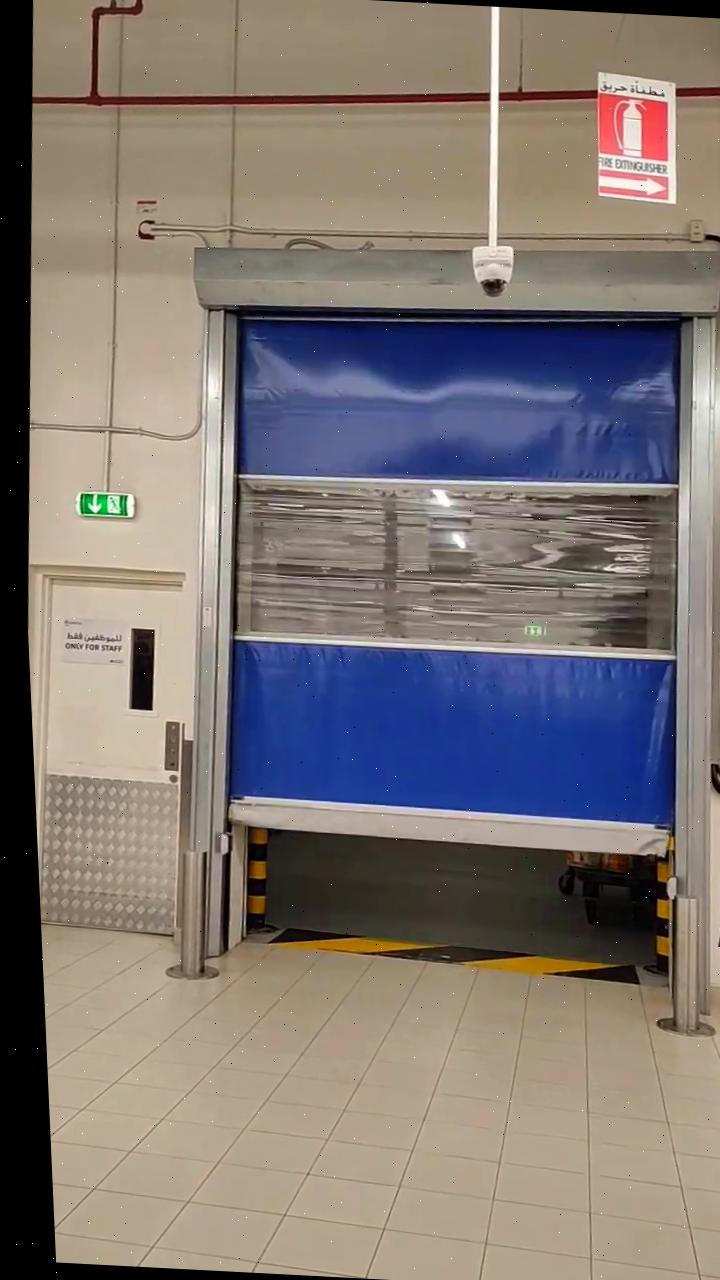Strip: (261, 922, 632, 986)
